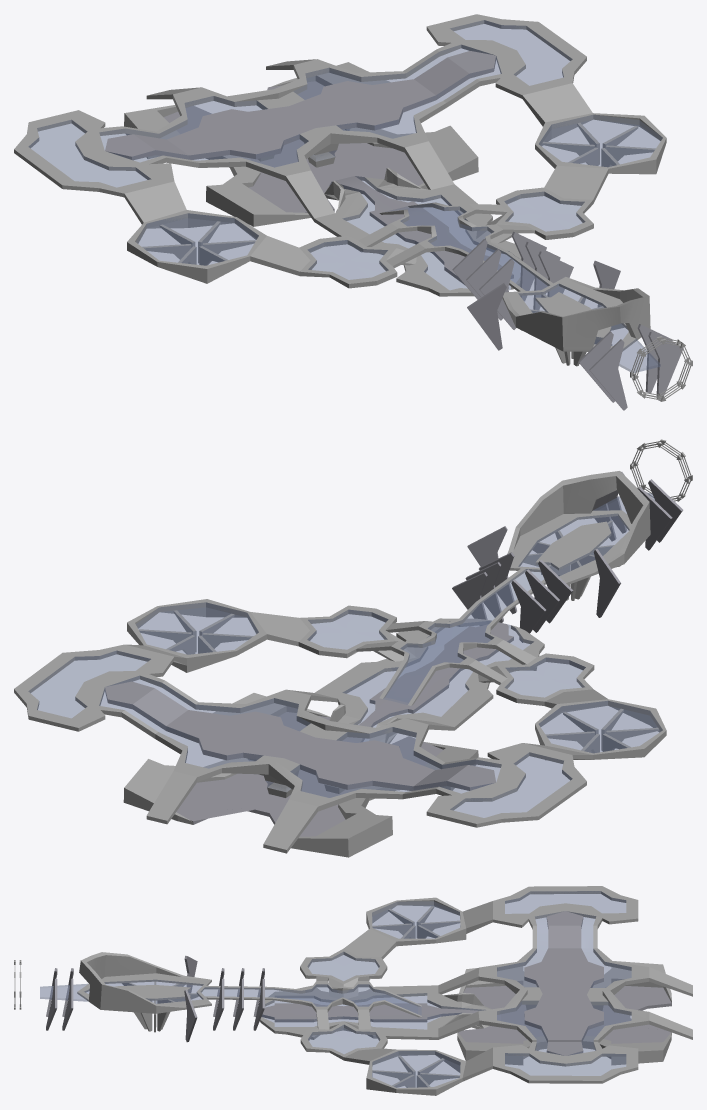
Rendered from Noah_Lv1_MainPlatform.fbx.
The picture shows the model from 3 angles, top to bottom: view 1: azimuth 30°, elevation 25°; view 2: azimuth 150°, elevation 25°; view 3: azimuth 270°, elevation 25°; orthographic projection. The views are drawn at different scales.
Parts seen in each view (by area): view 1: CentralPlatform_Upper_Glass2, polySurface20, CentralPlatform_IslandLeft, CentralPlatform_Lower_Rim, CentralPlatform_Lower_Glass, BasePlatform_Lower_OuterRim, polySurface13, polySurface47, polySurface35, polySurface16, CentralPlatform_Upper_Rim2, CentralPlatform_Upper_Rim1 (+33 smaller); view 2: CentralPlatform_Upper_Glass2, polySurface20, CentralPlatform_IslandLeft, CentralPlatform_Lower_Rim, CentralPlatform_Lower_Glass, BasePlatform_Lower_OuterRim, polySurface13, polySurface16, polySurface35, BasePlatform_Upper_Glass, polySurface47, BasePlatform_Upper_Rim (+28 smaller); view 3: CentralPlatform_Upper_Glass2, CentralPlatform_Lower_Glass, polySurface20, CentralPlatform_IslandLeft, BasePlatform_Lower_OuterRim, polySurface13, CentralPlatform_Lower_Rim, polySurface16, BasePlatform_Lower_InnerRim, polySurface47, polySurface35, BasePlatform_Upper_Rim (+24 smaller).
Boxes of the visible parts, bbox=[...] form: CentralPlatform_Upper_Glass2: bbox=[105, 51, 496, 160]; polySurface20: bbox=[100, 45, 501, 167]; CentralPlatform_IslandLeft: bbox=[14, 110, 174, 197]; CentralPlatform_Lower_Rim: bbox=[124, 62, 478, 226]; CentralPlatform_Lower_Glass: bbox=[164, 81, 423, 212]; BasePlatform_Lower_OuterRim: bbox=[314, 167, 521, 296]; polySurface13: bbox=[502, 277, 650, 351]; polySurface47: bbox=[136, 213, 258, 265]; polySurface35: bbox=[539, 115, 662, 167]; polySurface16: bbox=[426, 14, 586, 98]; CentralPlatform_Upper_Rim2: bbox=[99, 43, 461, 138]; CentralPlatform_Upper_Rim1: bbox=[140, 74, 501, 180]; CentralPlatform_Upper_Glass2: bbox=[105, 681, 495, 790]; polySurface20: bbox=[99, 675, 501, 797]; CentralPlatform_IslandLeft: bbox=[426, 743, 586, 827]; CentralPlatform_Lower_Rim: bbox=[123, 693, 478, 857]; CentralPlatform_Lower_Glass: bbox=[176, 712, 443, 836]; BasePlatform_Lower_OuterRim: bbox=[315, 618, 544, 743]; polySurface13: bbox=[507, 471, 650, 584]; polySurface16: bbox=[14, 644, 174, 731]; polySurface35: bbox=[136, 602, 258, 654]; BasePlatform_Upper_Glass: bbox=[383, 569, 543, 704]; polySurface47: bbox=[539, 701, 662, 753]; BasePlatform_Upper_Rim: bbox=[356, 568, 546, 705]; CentralPlatform_Upper_Glass2: bbox=[524, 911, 603, 1055]; CentralPlatform_Lower_Glass: bbox=[458, 985, 671, 1043]; polySurface20: bbox=[497, 912, 631, 1055]; CentralPlatform_IslandLeft: bbox=[493, 886, 638, 927]; BasePlatform_Lower_OuterRim: bbox=[258, 985, 491, 1039]; polySurface13: bbox=[77, 952, 211, 1013]; CentralPlatform_Lower_Rim: bbox=[457, 961, 671, 1065]; polySurface16: bbox=[493, 1045, 638, 1083]; BasePlatform_Lower_InnerRim: bbox=[261, 1003, 500, 1022]; polySurface47: bbox=[372, 901, 460, 938]; polySurface35: bbox=[372, 1051, 460, 1087]; BasePlatform_Upper_Rim: bbox=[204, 976, 421, 1029].
Bounding box in the file's own units: 322 × 53.04 × 476.
